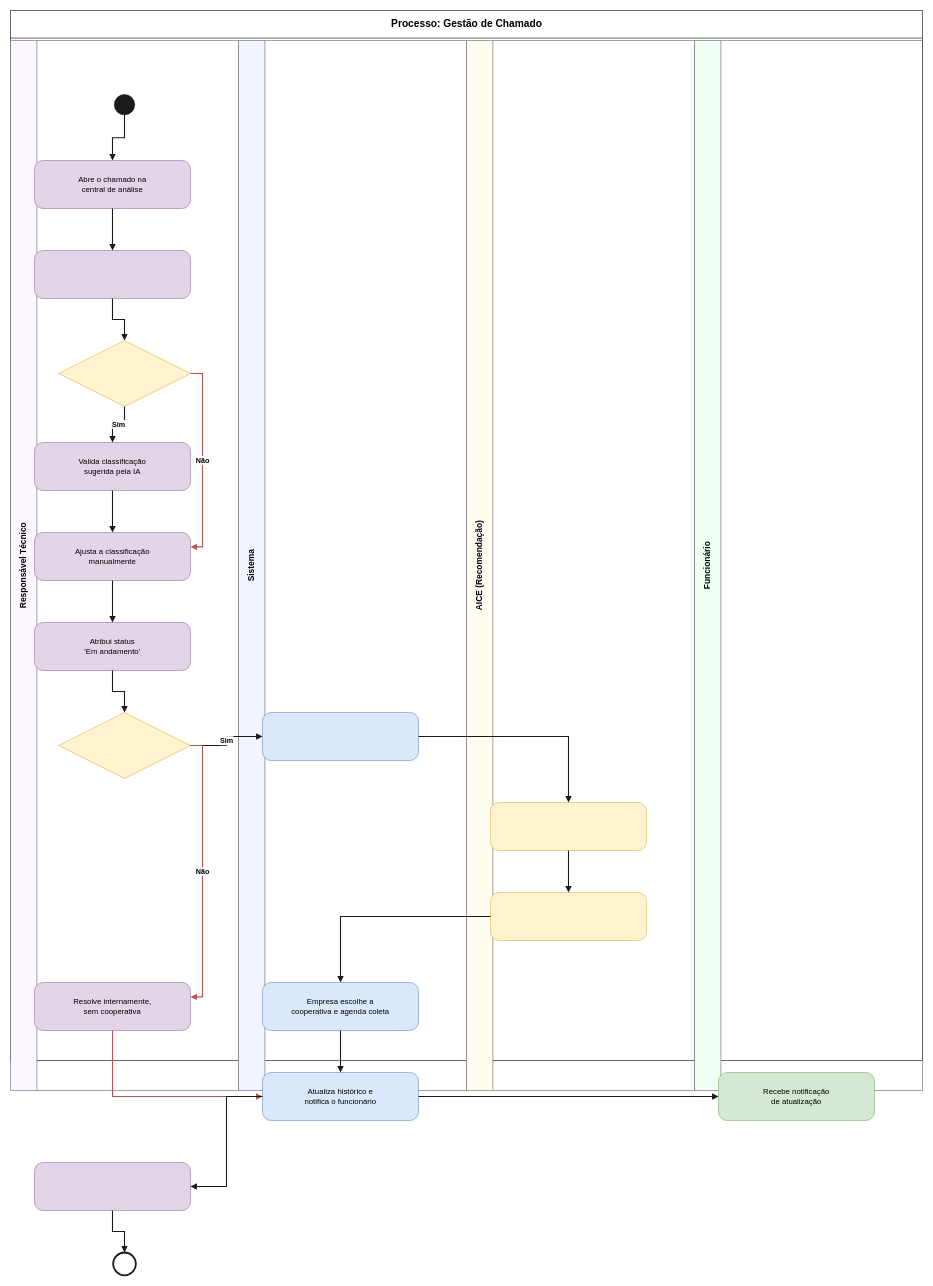
The diagram is 933 pixels wide and 1286 high, and some of its shapes have lost their labels. The shapes that lost their labels are listed below. From the top down, each one's centre as x and y in pixels, then its label:
the point at 112,274: Analisa foto, descrição e sugestão da IA
the point at 124,373: Sugestão está correta?
the point at 124,745: Requer cooperativa?
the point at 340,736: Aciona o algoritmo AICE
the point at 568,826: Calcula score de compatibilidade
the point at 568,916: Retorna lista ordenada de cooperativas
the point at 112,1186: Encerra o chamado
